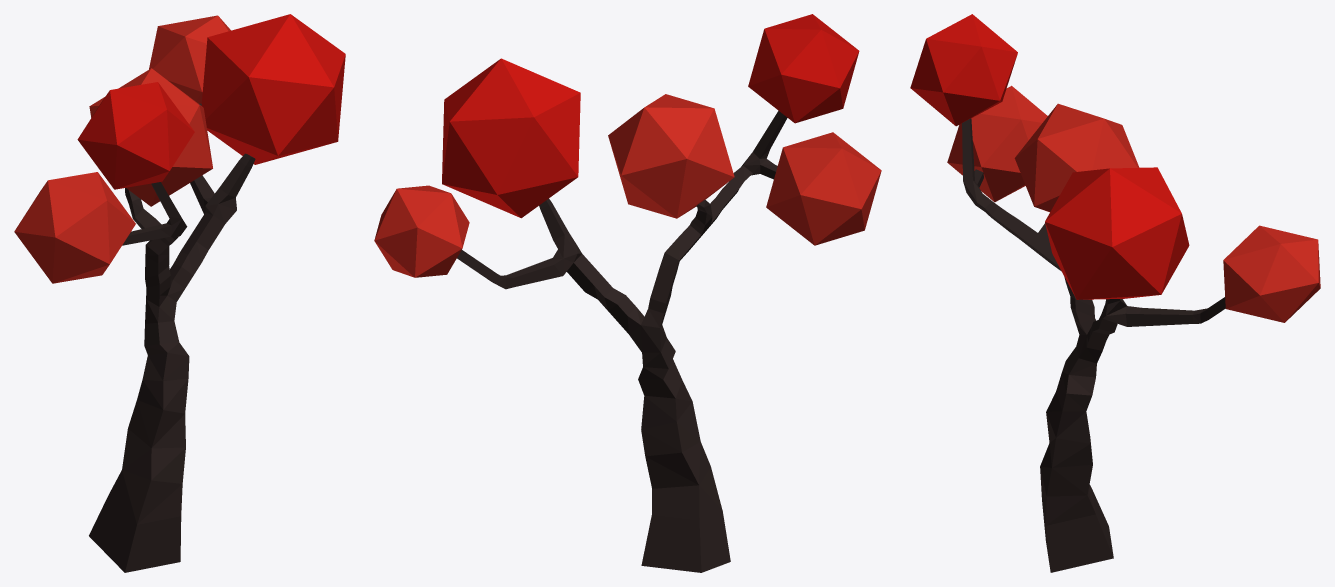
Rendered from tree1.obj.
The picture shows the model from 3 angles, left to right: view 1: azimuth 30°, elevation 25°; view 2: azimuth 150°, elevation 25°; view 3: azimuth 270°, elevation 25°; orthographic projection. The views are drawn at different scales.
Parts seen in each view (by area): view 1: Cube.001_Leaf_2, Cube.001_Trunk, Cube.001_Leaf_1; view 2: Cube.001_Leaf_1, Cube.001_Leaf_2, Cube.001_Trunk; view 3: Cube.001_Leaf_2, Cube.001_Leaf_1, Cube.001_Trunk.
Boxes of the visible parts, left/top/right/bottom form: Cube.001_Leaf_2: left=77, top=14, right=345, bottom=189; Cube.001_Trunk: left=89, top=103, right=255, bottom=572; Cube.001_Leaf_1: left=14, top=15, right=230, bottom=283; Cube.001_Leaf_1: left=374, top=94, right=881, bottom=277; Cube.001_Leaf_2: left=442, top=14, right=859, bottom=218; Cube.001_Trunk: left=457, top=110, right=787, bottom=572; Cube.001_Leaf_2: left=910, top=14, right=1189, bottom=299; Cube.001_Leaf_1: left=947, top=85, right=1320, bottom=322; Cube.001_Trunk: left=962, top=118, right=1225, bottom=572.
Size of the model in its own units: 12.55 by 16.83 by 12.35.
